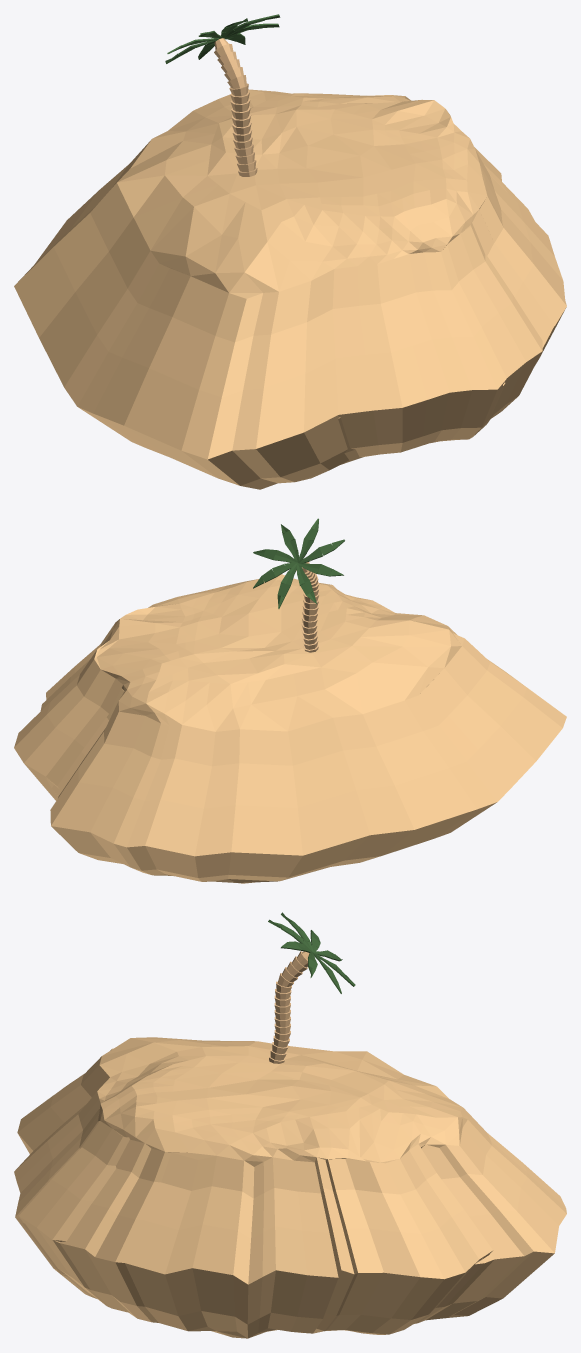
File: Islas6.fbx
The picture shows the model from 3 angles, top to bottom: view 1: azimuth 30°, elevation 25°; view 2: azimuth 150°, elevation 25°; view 3: azimuth 270°, elevation 25°; orthographic projection. The views are drawn at different scales.
Parts seen in each view (by area): view 1: Tierra.004; view 2: Tierra.004; view 3: Tierra.004.
Part boxes in pixels (<box>): Tierra.004: <box>14,14,566,489</box>; Tierra.004: <box>14,518,566,883</box>; Tierra.004: <box>14,912,566,1338</box>.
Bounding box in the file's own units: 691 × 526 × 771.
